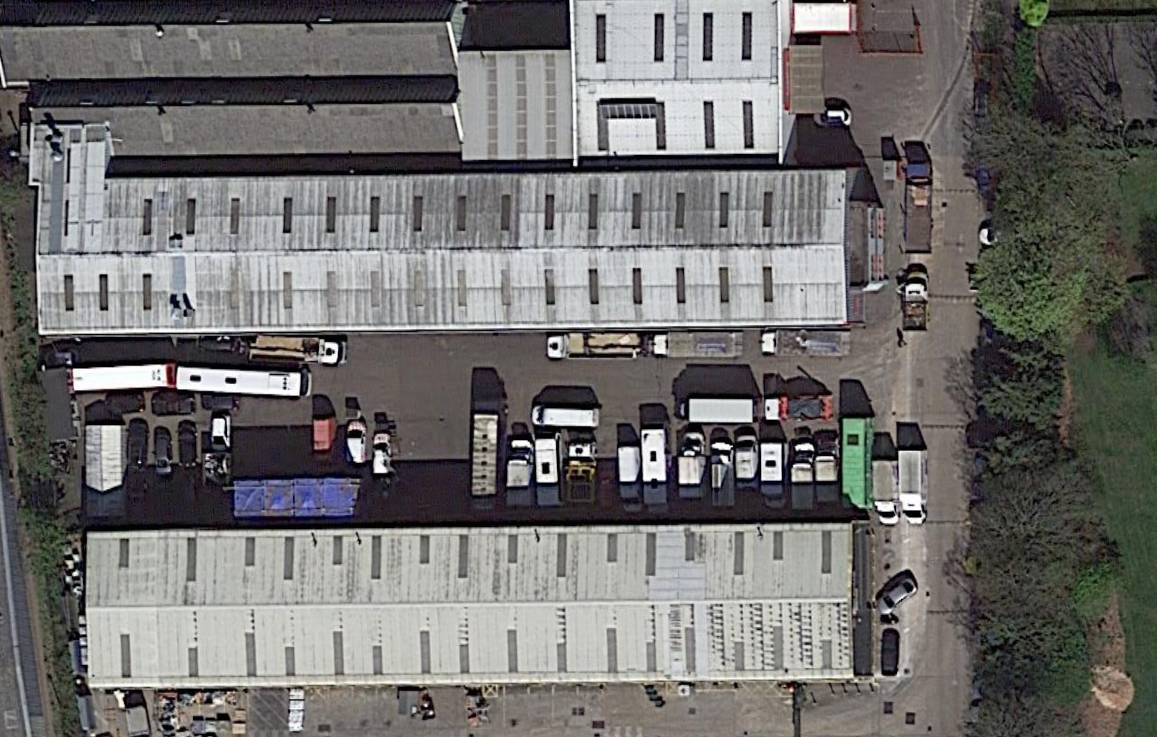large vehicle: (176, 362, 312, 400), (469, 398, 507, 518), (72, 361, 178, 396), (840, 416, 877, 511), (247, 335, 349, 369), (903, 161, 936, 257), (547, 331, 642, 363), (758, 328, 851, 360), (651, 329, 746, 360), (898, 447, 931, 528), (640, 429, 672, 509), (677, 432, 710, 503), (680, 396, 756, 426), (564, 439, 598, 506), (764, 393, 835, 425), (534, 438, 566, 509), (506, 438, 537, 511), (617, 445, 647, 519), (790, 439, 819, 513), (872, 460, 902, 531), (761, 441, 791, 512), (531, 402, 602, 431), (900, 271, 931, 336), (813, 438, 842, 507), (707, 440, 736, 509), (734, 432, 762, 496)
small vehicle: (876, 574, 921, 617), (372, 432, 394, 475), (346, 422, 367, 465)
